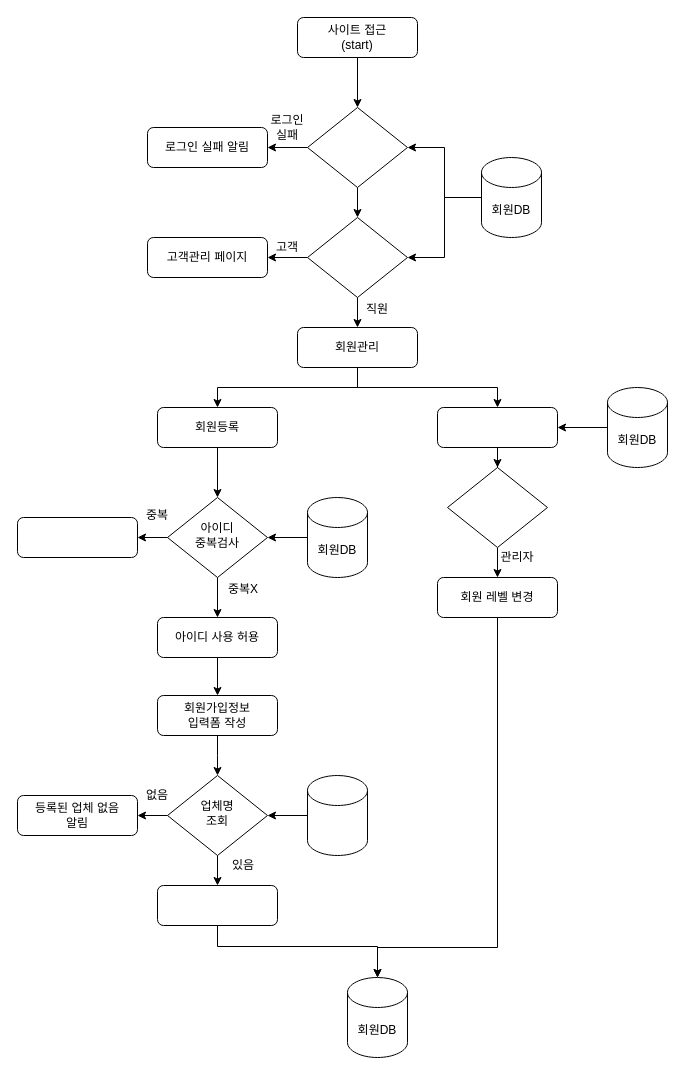
Image size: 685x1075. Some labels were removed from this diagram. The centre of each missing label's shape, as x and y in pixels:
"관리자권한 확인" goes at point (497, 507).
"등록" goes at point (217, 905).
"로그인" goes at point (357, 147).
"아이디 사용불가 알림" goes at point (77, 537).
"업체DB" goes at point (337, 815).
"직원 or 고객" goes at point (357, 257).
"회원리스트" goes at point (497, 427).
